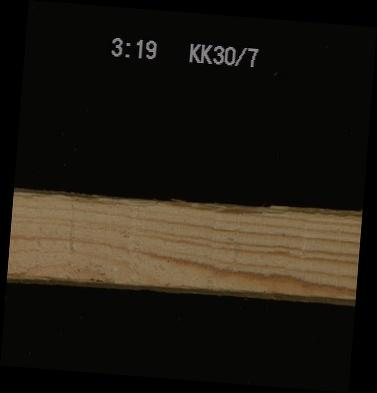wave: (13, 189, 361, 217), (12, 262, 107, 286)
